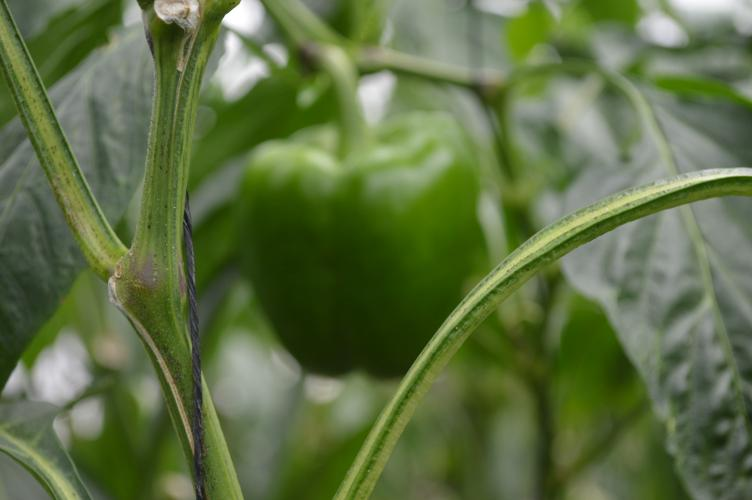BellPepper: (238, 120, 480, 373)
